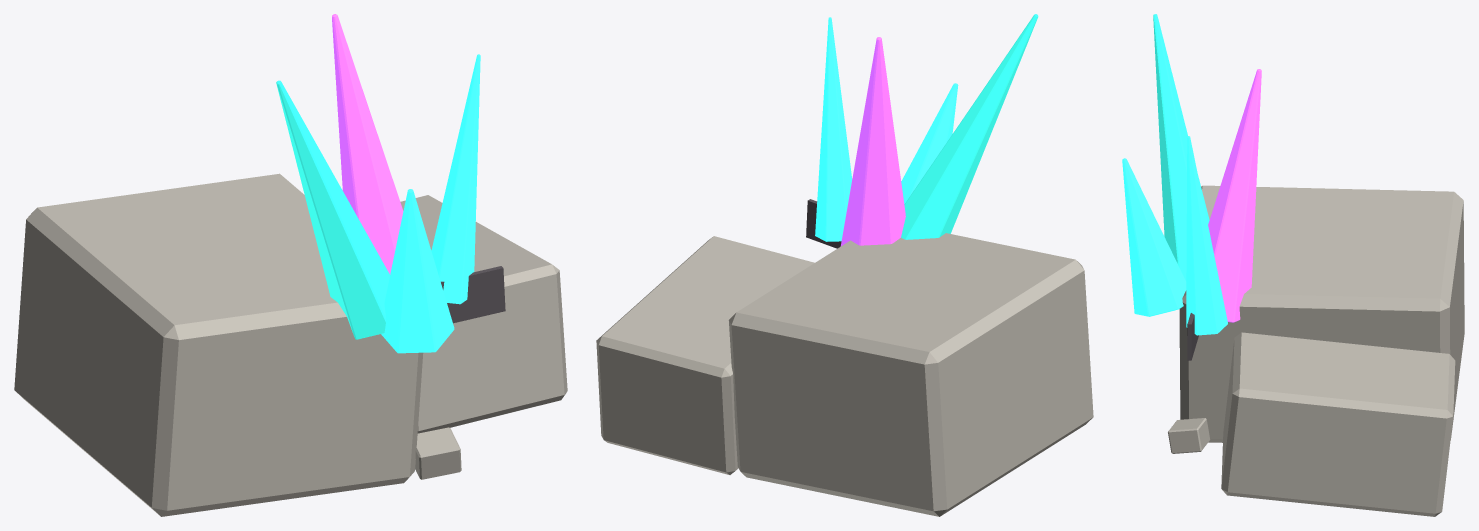
The model's file is runtime.glb.
The picture shows the model from 3 angles, left to right: view 1: azimuth 30°, elevation 25°; view 2: azimuth 150°, elevation 25°; view 3: azimuth 270°, elevation 25°; orthographic projection. The views are drawn at different scales.
Visible parts, largest first — view 1: crystal-ruins-crystal-growth-v04_stone_00_nocol, crystal-ruins-crystal-growth-v04_stone_01_nocol, crystal-ruins-crystal-growth-v04_crystal_02_nocol, crystal-ruins-crystal-growth-v04_crystal_01_nocol, crystal-ruins-crystal-growth-v04_crystal_03_nocol, crystal-ruins-crystal-growth-v04_crystal_00_nocol, crystal-ruins-crystal-growth-v04_fracture_01_nocol, crystal-ruins-crystal-growth-v04_stone_14_nocol; view 2: crystal-ruins-crystal-growth-v04_stone_00_nocol, crystal-ruins-crystal-growth-v04_stone_01_nocol, crystal-ruins-crystal-growth-v04_crystal_02_nocol, crystal-ruins-crystal-growth-v04_crystal_01_nocol, crystal-ruins-crystal-growth-v04_crystal_00_nocol, crystal-ruins-crystal-growth-v04_crystal_03_nocol; view 3: crystal-ruins-crystal-growth-v04_stone_00_nocol, crystal-ruins-crystal-growth-v04_stone_01_nocol, crystal-ruins-crystal-growth-v04_crystal_01_nocol, crystal-ruins-crystal-growth-v04_crystal_03_nocol, crystal-ruins-crystal-growth-v04_crystal_02_nocol, crystal-ruins-crystal-growth-v04_crystal_00_nocol, crystal-ruins-crystal-growth-v04_stone_14_nocol.
Part boxes in pixels (x1,y1,x2,y2): crystal-ruins-crystal-growth-v04_stone_00_nocol: [14, 173, 423, 516]; crystal-ruins-crystal-growth-v04_stone_01_nocol: [400, 195, 567, 433]; crystal-ruins-crystal-growth-v04_crystal_02_nocol: [276, 80, 389, 339]; crystal-ruins-crystal-growth-v04_crystal_01_nocol: [332, 14, 403, 274]; crystal-ruins-crystal-growth-v04_crystal_03_nocol: [381, 189, 454, 353]; crystal-ruins-crystal-growth-v04_crystal_00_nocol: [431, 54, 480, 304]; crystal-ruins-crystal-growth-v04_fracture_01_nocol: [441, 266, 505, 323]; crystal-ruins-crystal-growth-v04_stone_14_nocol: [415, 427, 461, 479]; crystal-ruins-crystal-growth-v04_stone_00_nocol: [728, 233, 1093, 516]; crystal-ruins-crystal-growth-v04_stone_01_nocol: [596, 236, 814, 474]; crystal-ruins-crystal-growth-v04_crystal_02_nocol: [901, 14, 1038, 239]; crystal-ruins-crystal-growth-v04_crystal_01_nocol: [840, 37, 905, 246]; crystal-ruins-crystal-growth-v04_crystal_00_nocol: [815, 17, 852, 241]; crystal-ruins-crystal-growth-v04_crystal_03_nocol: [901, 83, 958, 203]; crystal-ruins-crystal-growth-v04_stone_00_nocol: [1179, 185, 1464, 442]; crystal-ruins-crystal-growth-v04_stone_01_nocol: [1221, 332, 1455, 516]; crystal-ruins-crystal-growth-v04_crystal_01_nocol: [1208, 69, 1261, 322]; crystal-ruins-crystal-growth-v04_crystal_03_nocol: [1122, 158, 1186, 316]; crystal-ruins-crystal-growth-v04_crystal_02_nocol: [1153, 14, 1209, 281]; crystal-ruins-crystal-growth-v04_crystal_00_nocol: [1186, 136, 1227, 335]; crystal-ruins-crystal-growth-v04_stone_14_nocol: [1168, 418, 1210, 453].
Bounding box in the file's own units: 6.56 × 6.62 × 5.5.
